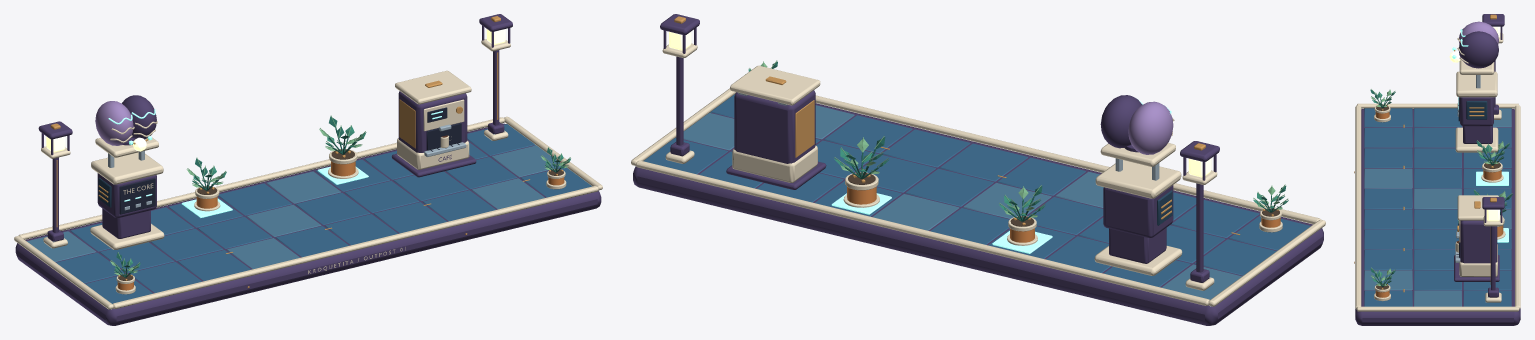
File: outpost.glb
3 views of the same model, side by side, from view 1: azimuth 30°, elevation 25°; view 2: azimuth 150°, elevation 25°; view 3: azimuth 270°, elevation 25° (orthographic). The views are drawn at different scales.
Visible parts, largest first — view 1: Batch_Portal_Outpost_blue, Batch_Portal_Outpost_violet, Batch_Portal_Outpost_ivory, Batch_Portal_Outpost_blue_tile, Batch_Portal_Outpost_charcoal, Batch_CoffeeLid_ivory, Batch_Portal_Outpost_copper, Batch_Core_Brain_lilac, Batch_Core_Brain_violet, Batch_Portal_Outpost_leaf_dark, Batch_Portal_Outpost_leaf_light, Batch_Portal_Outpost_mint (+5 smaller); view 2: Batch_Portal_Outpost_violet, Batch_Portal_Outpost_blue, Batch_Portal_Outpost_ivory, Batch_Portal_Outpost_blue_tile, Batch_CoffeeLid_ivory, Batch_Core_Brain_lilac, Batch_Core_Brain_violet, Batch_Portal_Outpost_copper, Batch_Portal_Outpost_leaf_light, Batch_Portal_Outpost_mint, Batch_Portal_Outpost_leaf_dark, Batch_Portal_Outpost_orange (+1 smaller); view 3: Batch_Portal_Outpost_blue, Batch_Portal_Outpost_violet, Batch_Portal_Outpost_ivory, Batch_Portal_Outpost_blue_tile, Batch_Core_Brain_violet, Batch_CoffeeLid_ivory, Batch_Portal_Outpost_leaf_light, Batch_Portal_Outpost_leaf_dark, Batch_Portal_Outpost_orange, Batch_Portal_Outpost_mint, Batch_Core_Brain_lilac, Batch_Portal_Outpost_blue_dark (+5 smaller).
Part boxes in pixels (x1,y1,x2,y2): Batch_Portal_Outpost_blue: (56, 124, 592, 303); Batch_Portal_Outpost_violet: (15, 14, 601, 325); Batch_Portal_Outpost_ivory: (14, 39, 602, 309); Batch_Portal_Outpost_blue_tile: (27, 145, 560, 268); Batch_Portal_Outpost_charcoal: (119, 107, 461, 214); Batch_CoffeeLid_ivory: (395, 70, 471, 104); Batch_Portal_Outpost_copper: (50, 16, 563, 288); Batch_Core_Brain_lilac: (95, 101, 133, 145); Batch_Core_Brain_violet: (122, 95, 156, 139); Batch_Portal_Outpost_leaf_dark: (116, 116, 565, 277); Batch_Portal_Outpost_leaf_light: (110, 115, 570, 275); Batch_Portal_Outpost_mint: (111, 111, 442, 309); Batch_Portal_Outpost_violet: (633, 14, 1323, 325); Batch_Portal_Outpost_blue: (643, 94, 1310, 286); Batch_Portal_Outpost_ivory: (631, 43, 1325, 306); Batch_Portal_Outpost_blue_tile: (676, 105, 1241, 299); Batch_CoffeeLid_ivory: (730, 65, 820, 105); Batch_Core_Brain_lilac: (1128, 101, 1173, 154); Batch_Core_Brain_violet: (1100, 95, 1142, 148); Batch_Portal_Outpost_copper: (674, 16, 1278, 235); Batch_Portal_Outpost_leaf_light: (745, 60, 1287, 217); Batch_Portal_Outpost_mint: (831, 193, 1210, 306); Batch_Portal_Outpost_leaf_dark: (772, 61, 1286, 221); Batch_Portal_Outpost_orange: (847, 187, 1280, 242); Batch_Portal_Outpost_blue: (1364, 108, 1511, 306); Batch_Portal_Outpost_violet: (1355, 14, 1520, 325); Batch_Portal_Outpost_ivory: (1355, 32, 1520, 311); Batch_Portal_Outpost_blue_tile: (1364, 108, 1511, 306); Batch_Core_Brain_violet: (1458, 31, 1498, 68); Batch_CoffeeLid_ivory: (1457, 195, 1498, 220); Batch_Portal_Outpost_leaf_light: (1371, 89, 1512, 285); Batch_Portal_Outpost_leaf_dark: (1370, 89, 1512, 286); Batch_Portal_Outpost_orange: (1375, 112, 1503, 297); Batch_Portal_Outpost_mint: (1458, 97, 1508, 242); Batch_Core_Brain_lilac: (1459, 21, 1498, 44); Batch_Portal_Outpost_blue_dark: (1466, 101, 1487, 119).
Size of the model in its own units: 10 by 3.01 by 3.42.
